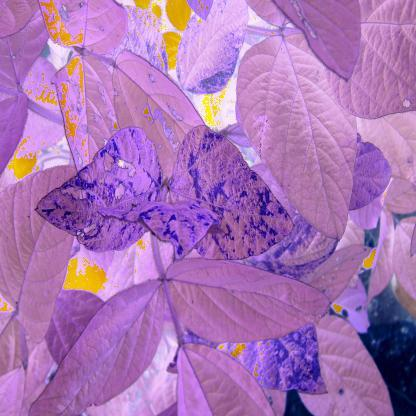Tomato leaf bacterial spot: (166, 257, 324, 346)
Tomato leaf yellow virus: (35, 124, 162, 260), (170, 130, 286, 254)
